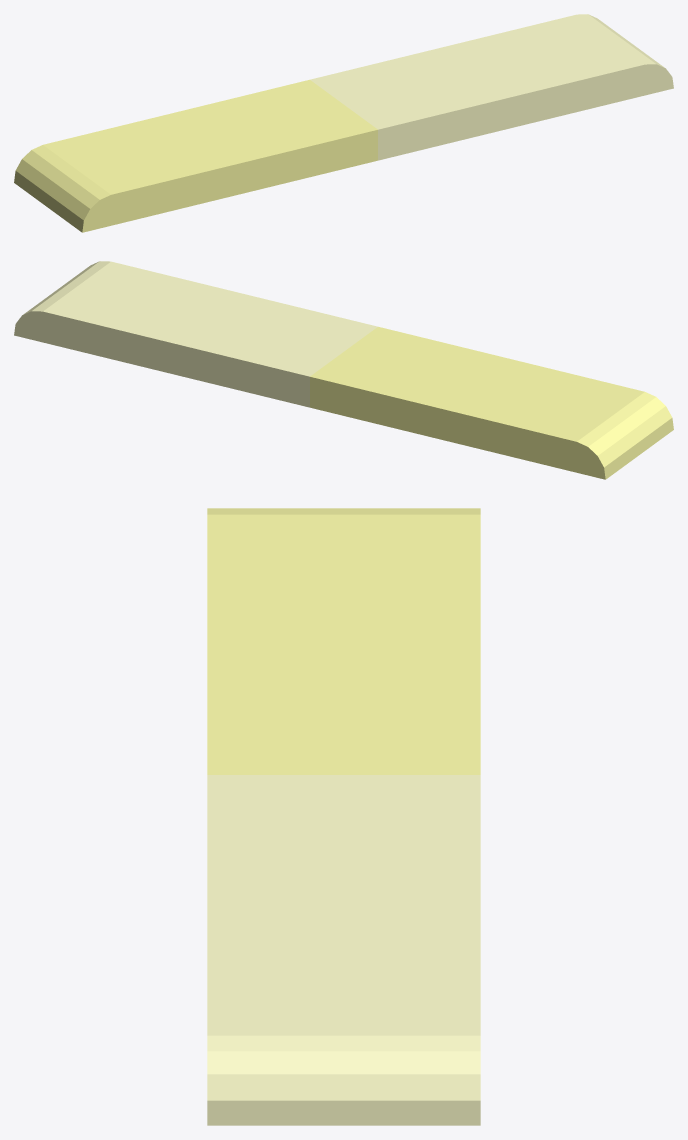
The model's file is island-plate-halfoval.fbx.
The picture shows the model from 3 angles, top to bottom: view 1: azimuth 30°, elevation 25°; view 2: azimuth 150°, elevation 25°; view 3: azimuth 270°, elevation 25°; orthographic projection. The views are drawn at different scales.
Parts seen in each view (by area): view 1: Plane; view 2: Plane; view 3: Plane.
Boxes of the visible parts, box(x1,y1,x2,y2) form: Plane: box(14, 14, 673, 232); Plane: box(14, 261, 673, 479); Plane: box(207, 508, 480, 1125).
Bounding box in the file's own units: 50000 × 2500 × 10000.
